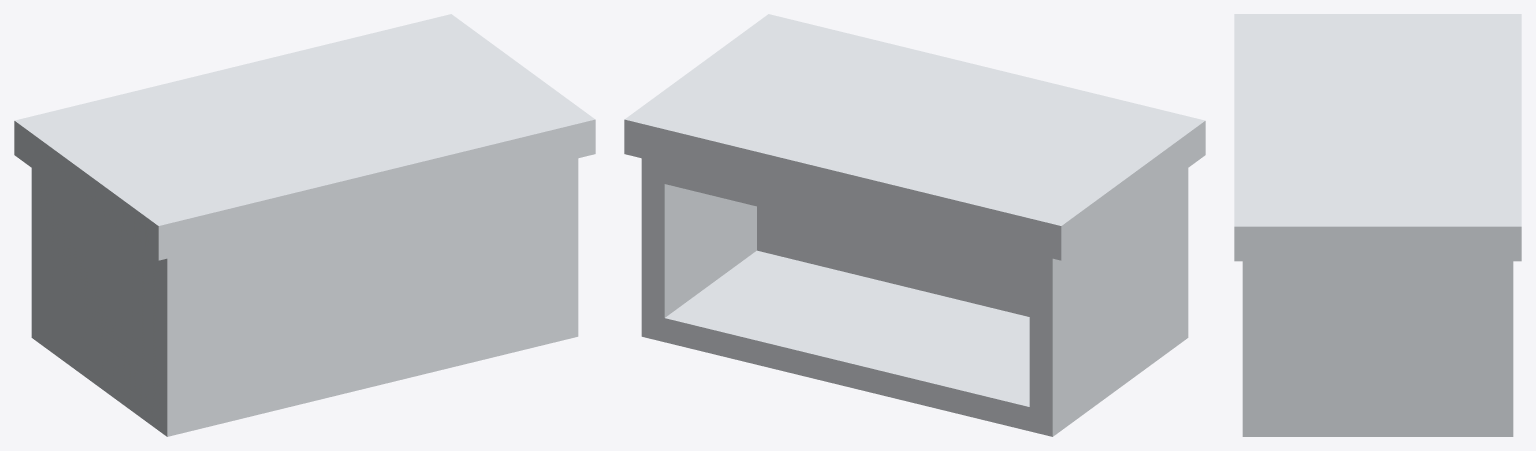
Rendered from fgr_fur_velador.fbx.
3 views of the same model, side by side, from view 1: azimuth 30°, elevation 25°; view 2: azimuth 150°, elevation 25°; view 3: azimuth 270°, elevation 25° (orthographic).
Parts seen in each view (by area): view 1: fgr_fur_velador; view 2: fgr_fur_velador; view 3: fgr_fur_velador.
Boxes of the visible parts, x1=… form: fgr_fur_velador: x1=14, y1=14, x2=595, y2=436; fgr_fur_velador: x1=624, y1=14, x2=1205, y2=436; fgr_fur_velador: x1=1234, y1=14, x2=1521, y2=436.
Size of the model in its own units: 1487 by 706 by 850.
Materials: 1 (1 with a texture image).
